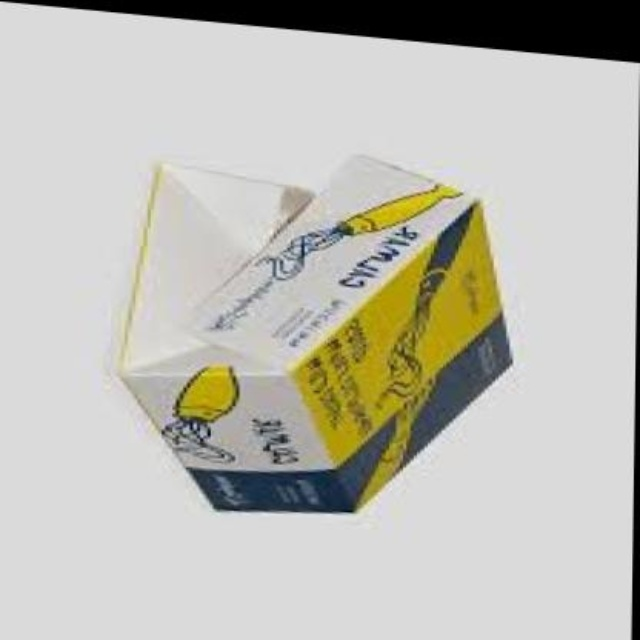trash: (122, 155, 509, 509)
